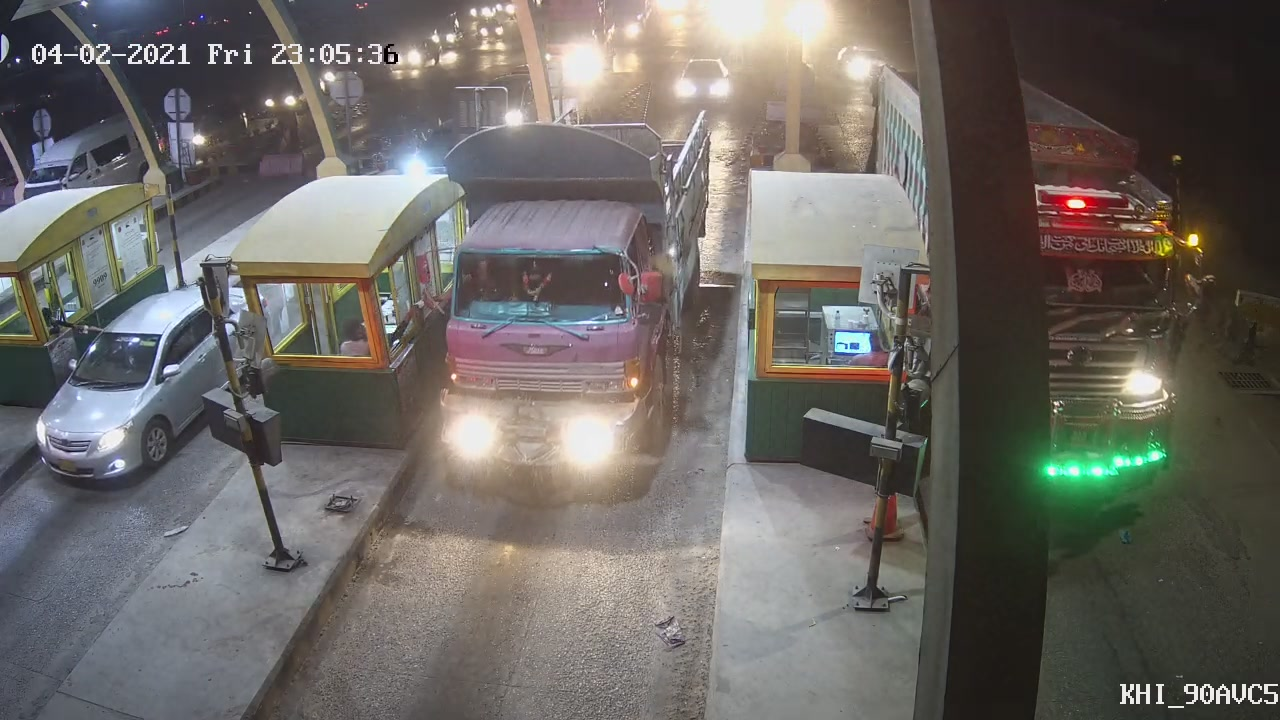F5: (437, 110, 724, 495)
